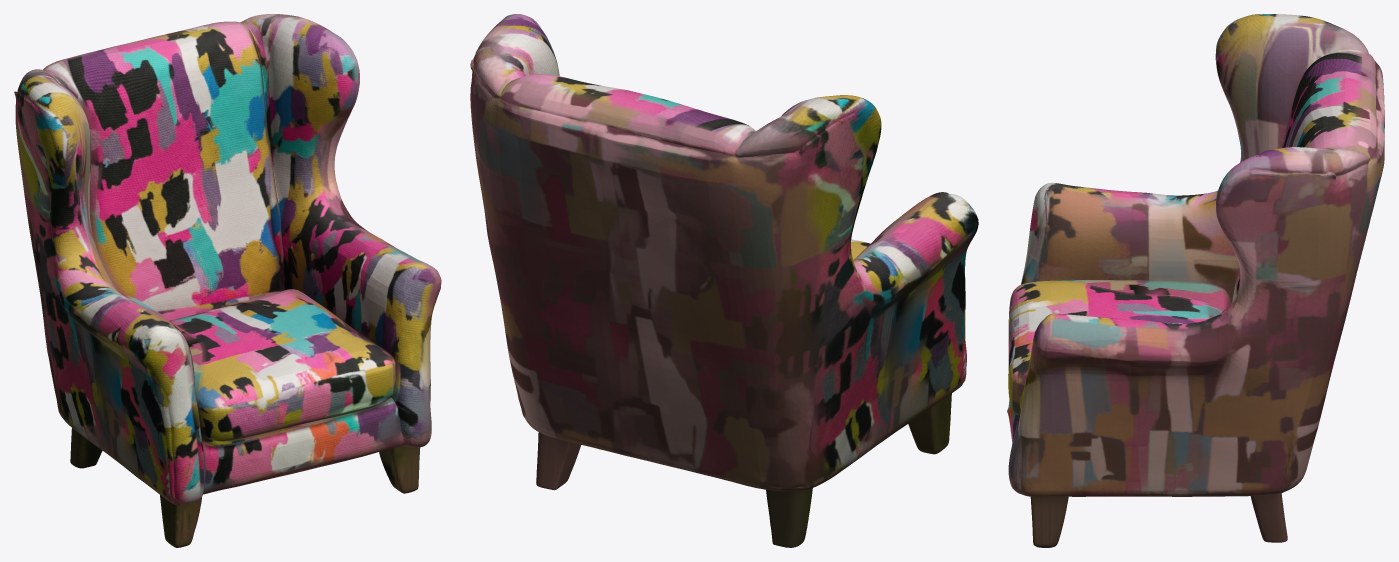
File: armchair.glb
The picture shows the model from 3 angles, left to right: view 1: azimuth 30°, elevation 25°; view 2: azimuth 150°, elevation 25°; view 3: azimuth 270°, elevation 25°; orthographic projection. The views are drawn at different scales.
Visible parts, largest first — view 1: geometry_0; view 2: geometry_0; view 3: geometry_0.
Part boxes in pixels (bbox=[...]): geometry_0: bbox=[14, 14, 441, 547]; geometry_0: bbox=[470, 14, 978, 547]; geometry_0: bbox=[1007, 14, 1384, 547].
Bounding box in the file's own units: 0.8434 × 1 × 0.851.
1 material, 1 textured.
